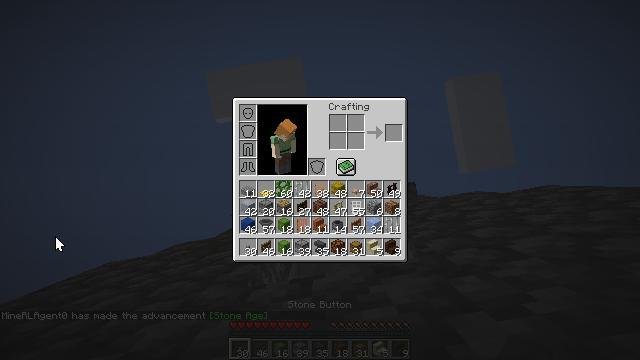cursor: (55, 236, 65, 252)
